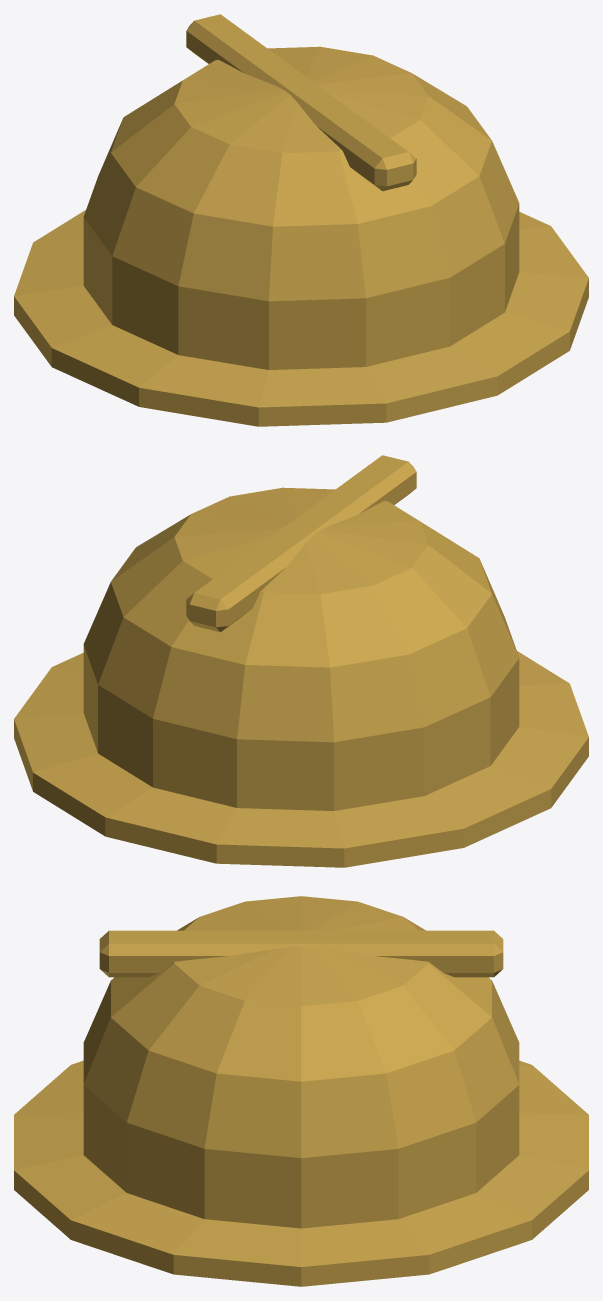
File: COS_HardHatGold.fbx
The picture shows the model from 3 angles, top to bottom: view 1: azimuth 30°, elevation 25°; view 2: azimuth 150°, elevation 25°; view 3: azimuth 270°, elevation 25°; orthographic projection. The views are drawn at different scales.
Parts seen in each view (by area): view 1: COS_HardHatGold; view 2: COS_HardHatGold; view 3: COS_HardHatGold.
Part boxes in pixels (x1,y1,x2,y2): COS_HardHatGold: (14,14,588,426); COS_HardHatGold: (14,455,588,867); COS_HardHatGold: (14,896,588,1286).
Bounding box in the file's own units: 1.9 × 0.8 × 1.85.
